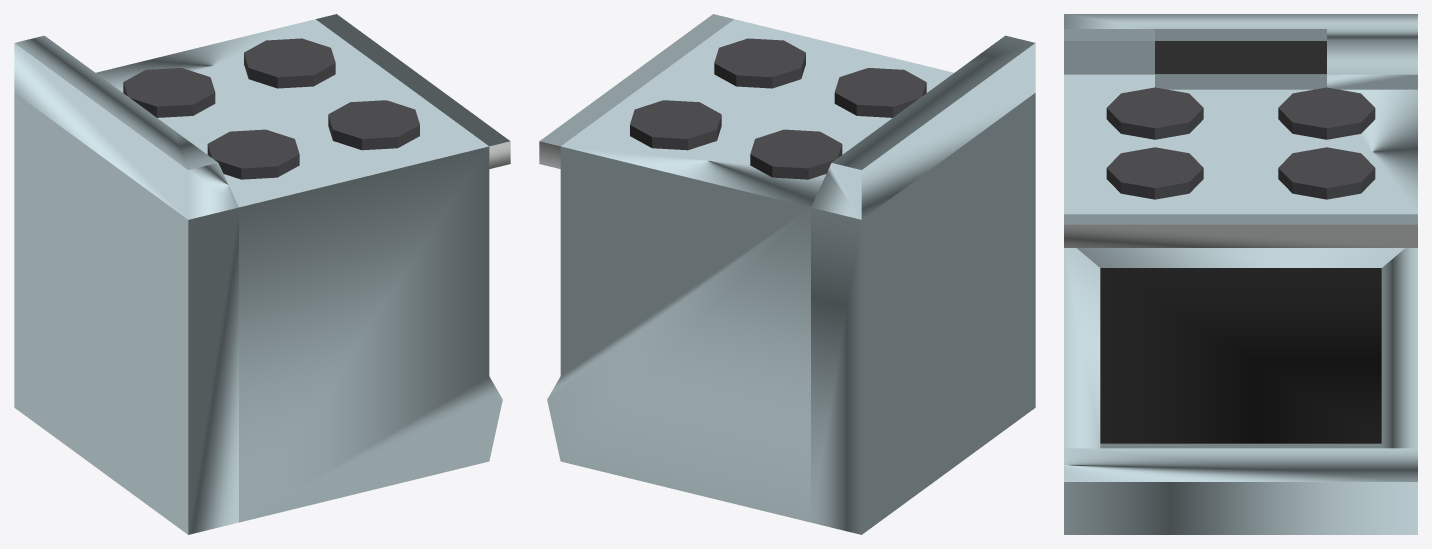
Rendered from Stove_v02.fbx.
3 renders of one model, left to right at view 1: azimuth 30°, elevation 25°; view 2: azimuth 150°, elevation 25°; view 3: azimuth 270°, elevation 25°, orthographic.
Parts seen in each view (by area): view 1: Stove, burner_2, burner_4, burner_1, burner_3; view 2: Stove, burner_4, burner_2, burner_3, burner_1; view 3: Stove, burner_2, burner_4, burner_1, burner_3.
Part boxes in pixels (x1,y1,x2,y2): Stove: [14, 14, 510, 534]; burner_2: [328, 100, 419, 150]; burner_4: [244, 38, 335, 88]; burner_1: [207, 129, 299, 179]; burner_3: [123, 68, 215, 117]; Stove: [539, 14, 1035, 534]; burner_4: [630, 100, 721, 150]; burner_2: [714, 38, 805, 88]; burner_3: [750, 129, 842, 179]; burner_1: [834, 68, 926, 117]; Stove: [1064, 14, 1417, 534]; burner_2: [1106, 147, 1203, 199]; burner_4: [1278, 147, 1375, 199]; burner_1: [1106, 87, 1203, 139]; burner_3: [1278, 87, 1375, 139].
Size of the model in its own units: 118 by 128 by 110.
